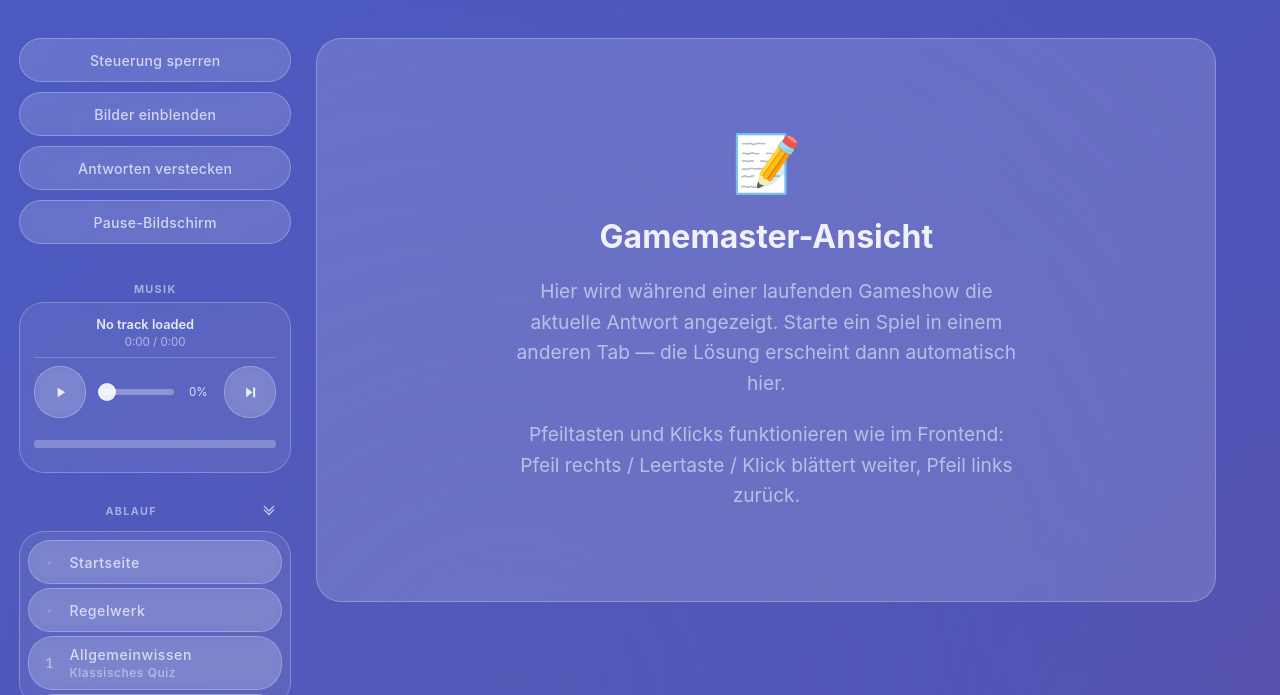
it: Gamemaster run-of-show — expand toggle › starts collapsed and persists the expanded choice per device
This screenshot has width=1280, height=695.
Step 1. Click the button named "Alle Spiele zeigen" → {"x": 269, "y": 512}, box x1=247 y1=490 x2=291 y2=534
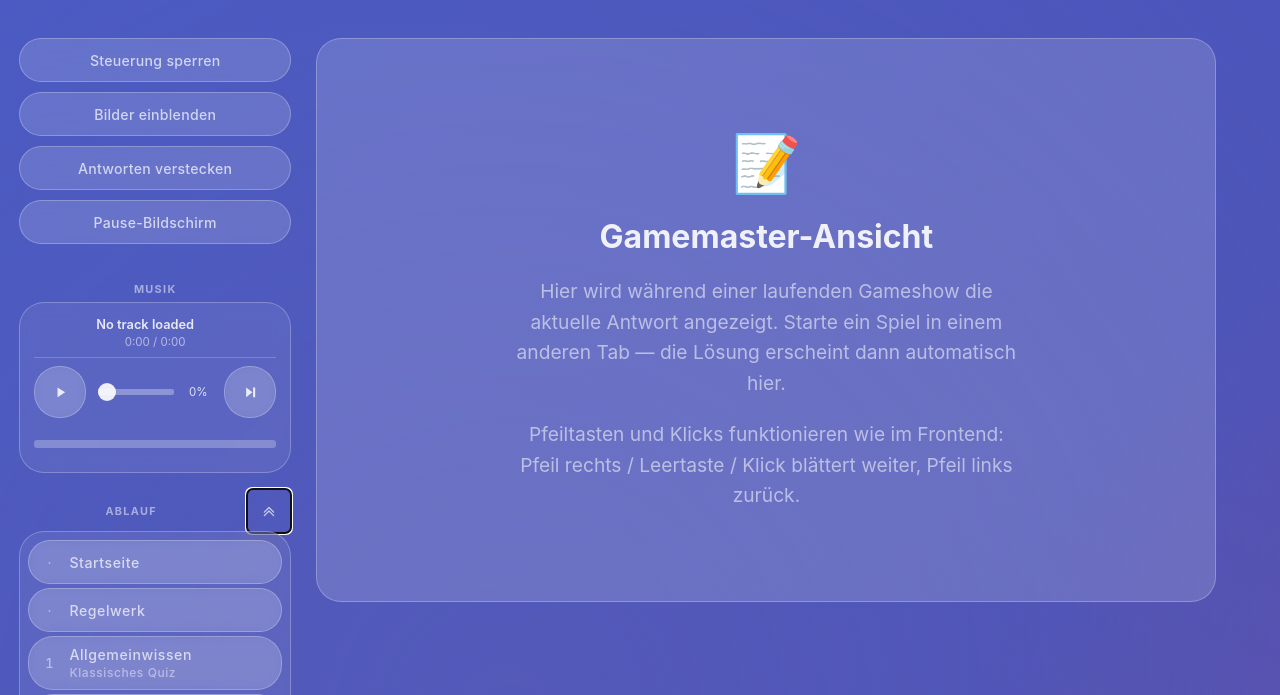
Now the button named "Ablauf einklappen" is expanded, box x1=247 y1=490 x2=291 y2=534
